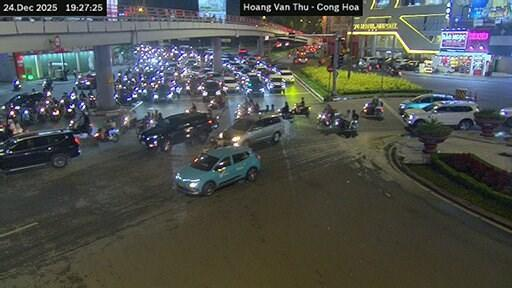motorbike: (333, 118, 357, 136), (67, 118, 92, 134), (92, 127, 118, 142), (359, 100, 383, 116), (316, 111, 339, 127), (118, 117, 137, 133), (291, 103, 310, 116), (48, 104, 60, 121), (278, 108, 293, 121), (21, 108, 32, 125), (208, 99, 224, 108), (89, 93, 96, 108), (389, 67, 400, 76), (12, 80, 19, 90)
